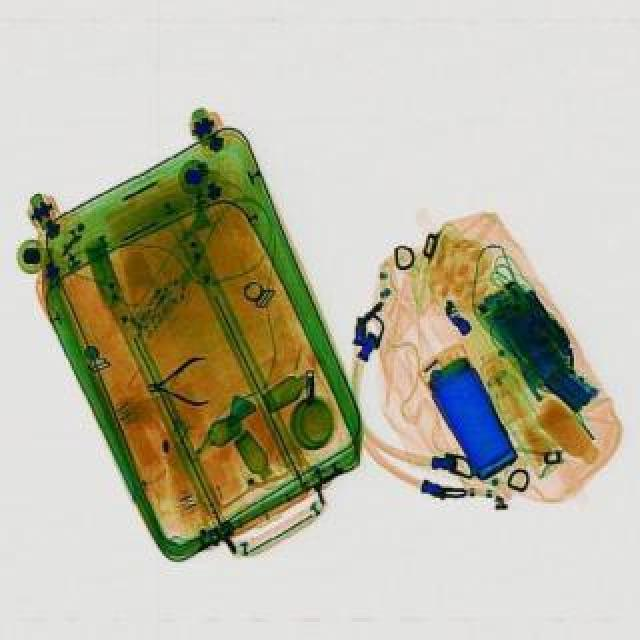wrench: (146, 354, 210, 406)
